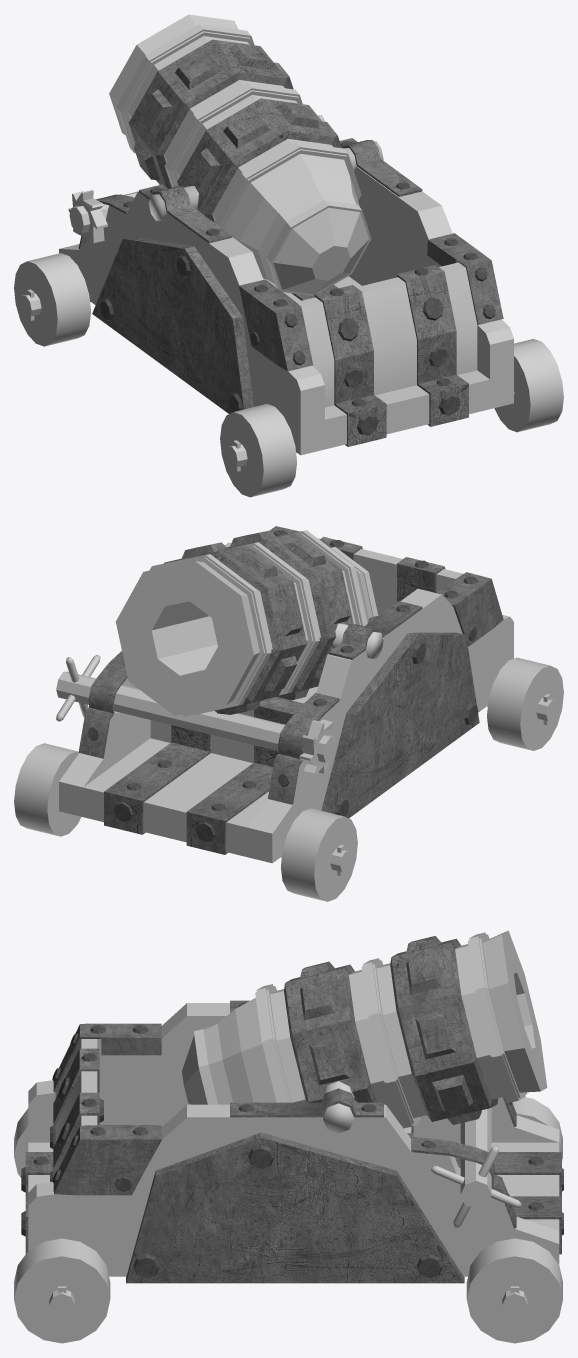
File: MortireLvl4.fbx
3 views of the same model, one above another, from view 1: azimuth 30°, elevation 25°; view 2: azimuth 150°, elevation 25°; view 3: azimuth 270°, elevation 25° (orthographic). The views are drawn at different scales.
Parts seen in each view (by area): view 1: Cube.045, Cylinder.054, Cylinder.053, Cube.049, Cube.050, Cube.052, Cube.044, Cube.047, Cylinder.056, Cylinder.059, Cylinder.057, Cylinder.052 (+3 smaller); view 2: Cube.045, Cylinder.054, Cube.049, Cylinder.053, Cube.050, Cube.047, Cylinder.057, Cube.052, Cylinder.064, Cube.044, Cylinder.056, Cylinder.058 (+3 smaller); view 3: Cube.045, Cube.049, Cylinder.054, Cylinder.053, Cube.047, Cube.052, Cube.044, Cube.050, Cylinder.056, Cylinder.057, Cylinder.064, Cylinder.058 (+7 smaller).
Part boxes in pixels (left/top/right/bottom): Cube.045: left=59, top=166, right=513, bottom=455; Cylinder.054: left=109, top=14, right=371, bottom=296; Cylinder.053: left=129, top=39, right=341, bottom=221; Cube.049: left=92, top=236, right=253, bottom=413; Cube.050: left=292, top=265, right=468, bottom=446; Cube.052: left=220, top=338, right=563, bottom=497; Cube.044: left=239, top=233, right=503, bottom=371; Cube.047: left=14, top=253, right=90, bottom=346; Cylinder.056: left=139, top=138, right=422, bottom=243; Cylinder.059: left=330, top=268, right=450, bottom=406; Cylinder.057: left=68, top=190, right=137, bottom=245; Cylinder.052: left=250, top=238, right=495, bottom=365; Cube.045: left=59, top=538, right=513, bottom=863; Cylinder.054: left=115, top=530, right=378, bottom=716; Cube.049: left=321, top=632, right=479, bottom=818; Cylinder.053: left=164, top=530, right=353, bottom=714; Cube.050: left=104, top=536, right=445, bottom=854; Cube.047: left=14, top=743, right=357, bottom=901; Cylinder.057: left=56, top=671, right=338, bottom=774; Cube.052: left=487, top=657, right=563, bottom=750; Cylinder.064: left=78, top=651, right=339, bottom=804; Cube.044: left=270, top=526, right=503, bottom=646; Cylinder.056: left=329, top=601, right=422, bottom=659; Cylinder.058: left=335, top=641, right=478, bottom=816; Cube.045: left=28, top=1003, right=559, bottom=1276; Cube.049: left=126, top=1132, right=464, bottom=1283; Cylinder.054: left=182, top=930, right=547, bottom=1128; Cylinder.053: left=284, top=936, right=498, bottom=1124; Cube.047: left=466, top=1097, right=562, bottom=1343; Cube.052: left=14, top=1108, right=110, bottom=1343; Cube.044: left=53, top=1023, right=161, bottom=1195; Cube.050: left=25, top=1048, right=561, bottom=1254; Cylinder.056: left=230, top=1000, right=383, bottom=1117; Cylinder.057: left=460, top=1107, right=491, bottom=1208; Cylinder.064: left=411, top=1096, right=516, bottom=1228; Cylinder.058: left=133, top=1145, right=443, bottom=1278.
Bounding box in the file's own units: 115 × 102 × 156.
